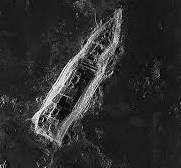ship: (27, 3, 125, 148)
